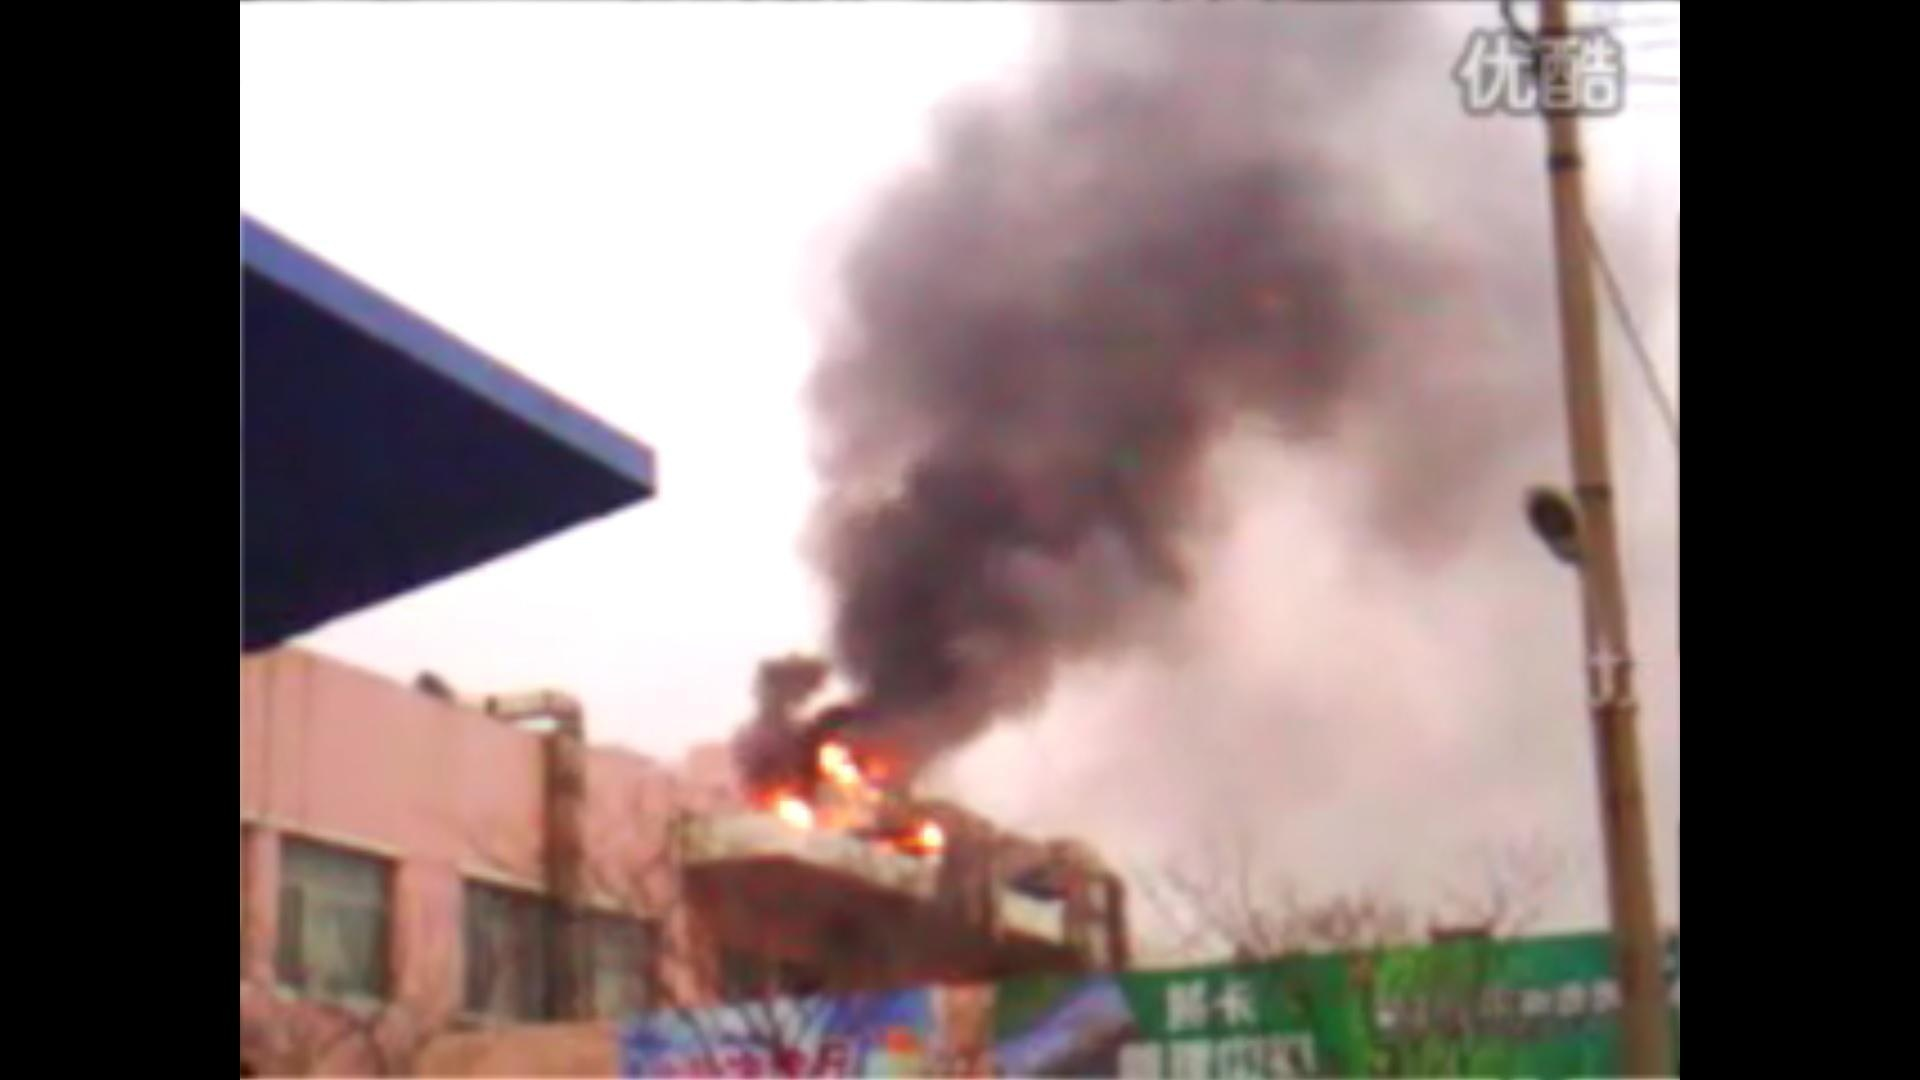fire: (764, 742, 932, 851)
